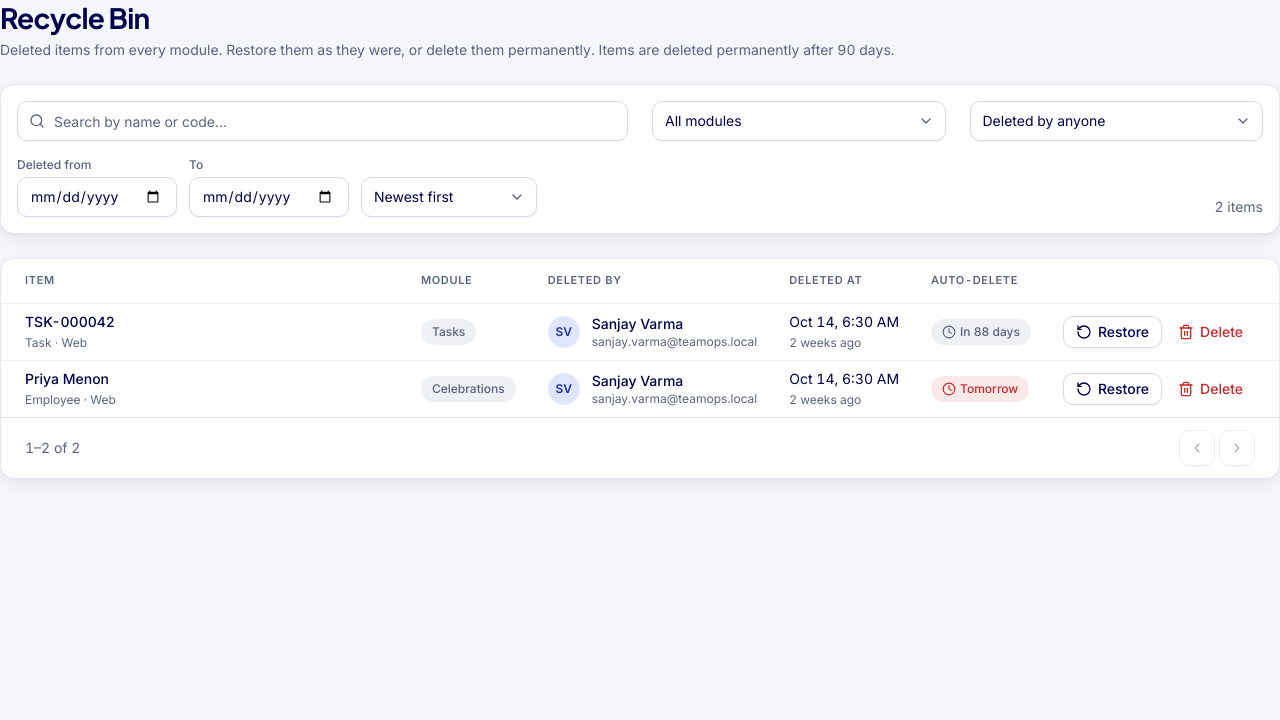
RecycleBinPage › shows a clash the server finds while restoring
Step 1. Click the button with aria-label "Restore TSK-000042" → (1113, 332), box x1=1063 y1=316 x2=1162 y2=348
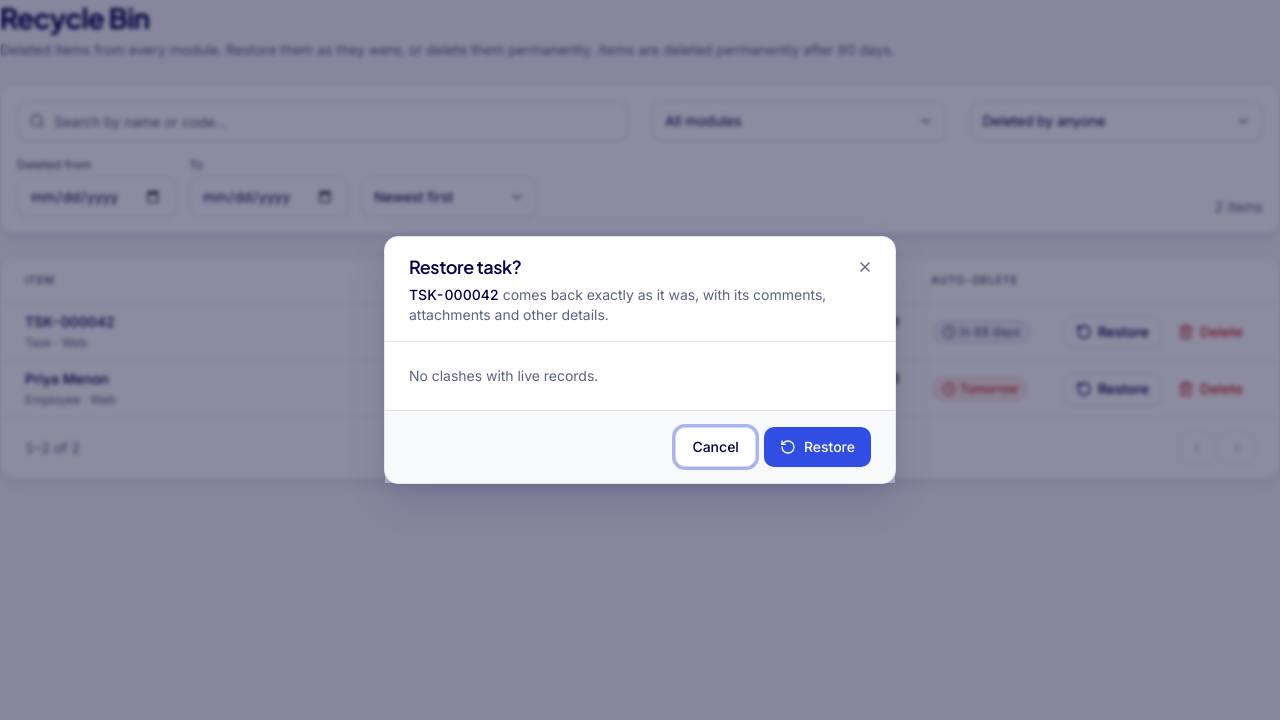
Step 2. Click the button "Restore" → (817, 447), box x1=764 y1=427 x2=871 y2=467
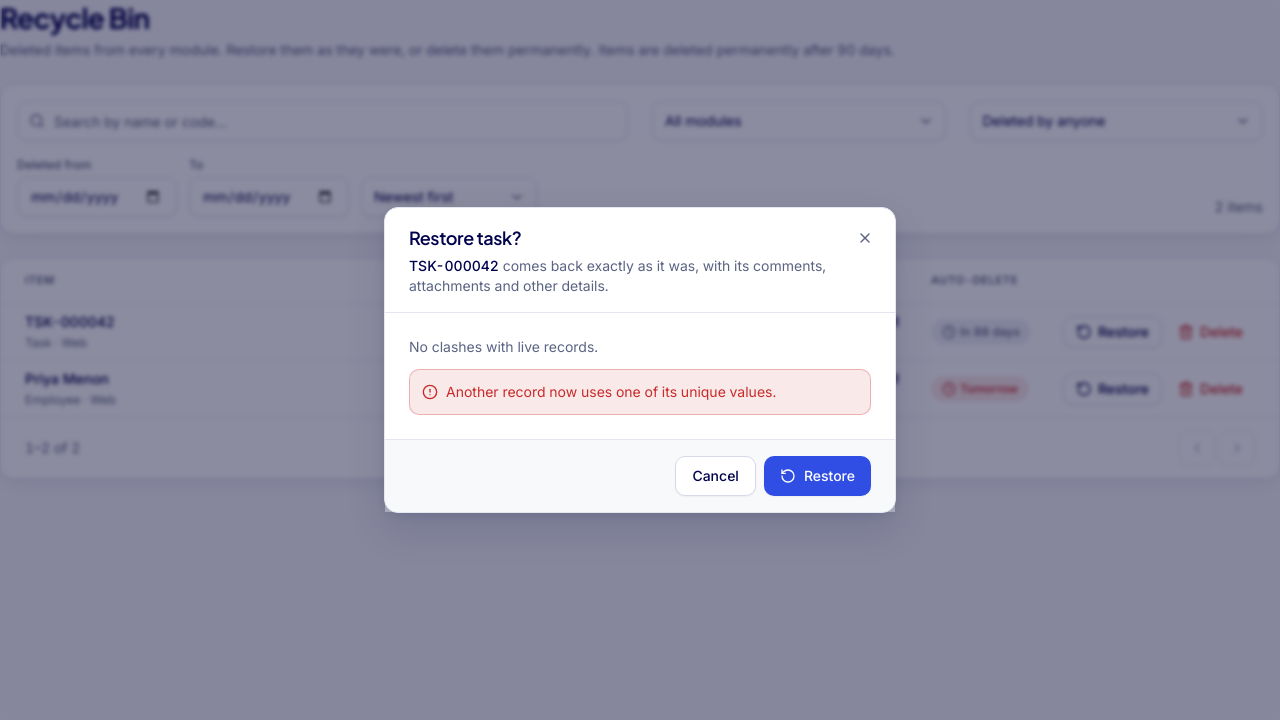
Now the message reads "Another record now uses one of its unique values.", box x1=446 y1=383 x2=776 y2=400
